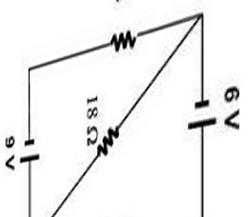resistor: (100, 17, 146, 49), (92, 115, 134, 142)
